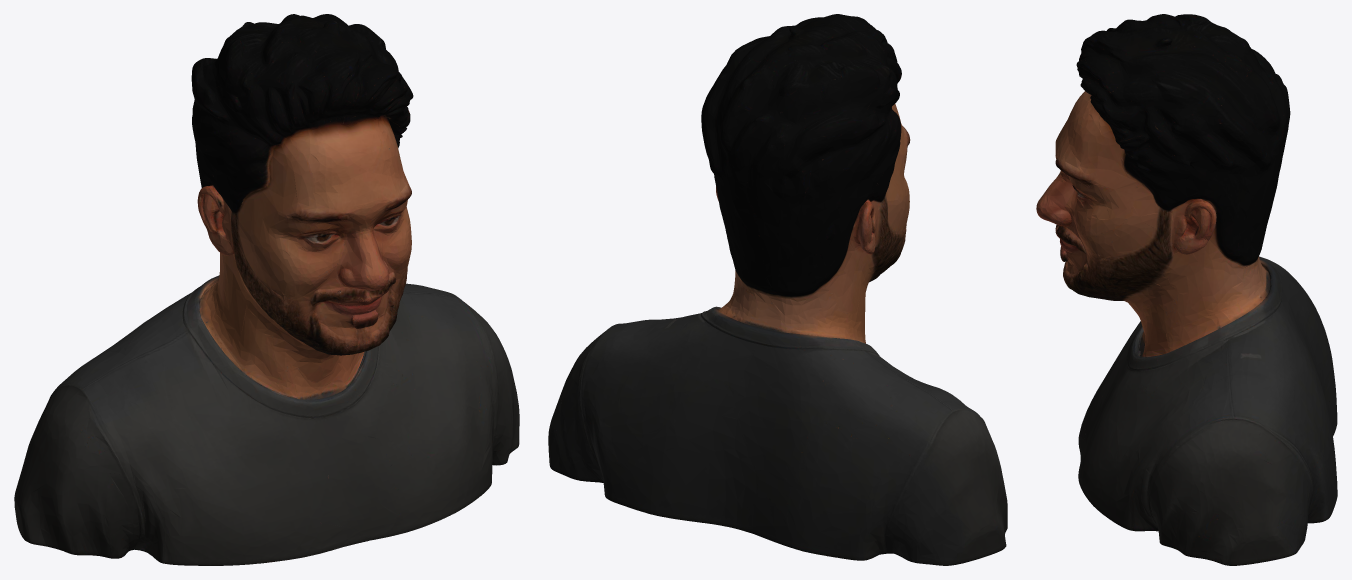
The model's file is avatar.glb.
3 views of the same model, side by side, from view 1: azimuth 30°, elevation 25°; view 2: azimuth 150°, elevation 25°; view 3: azimuth 270°, elevation 25° (orthographic). The views are drawn at different scales.
Bounding box in the file's own units: 2 × 1.88 × 1.19.
Materials: 1 (1 with a texture image).
